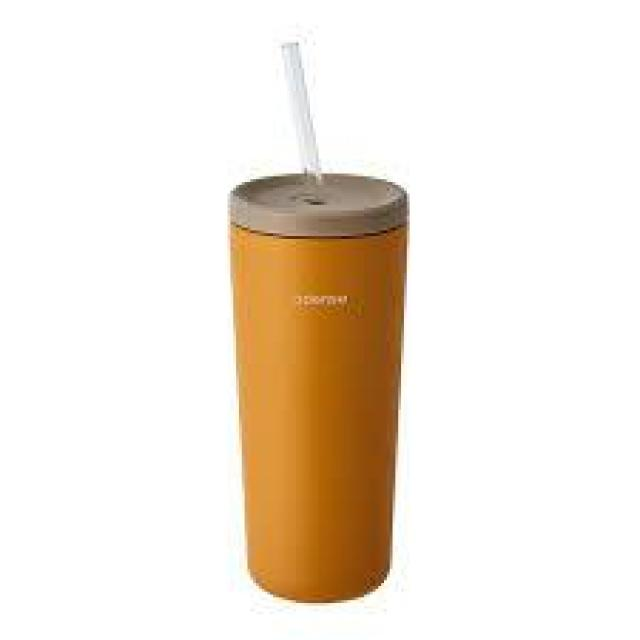bottle: (229, 42, 414, 608)
